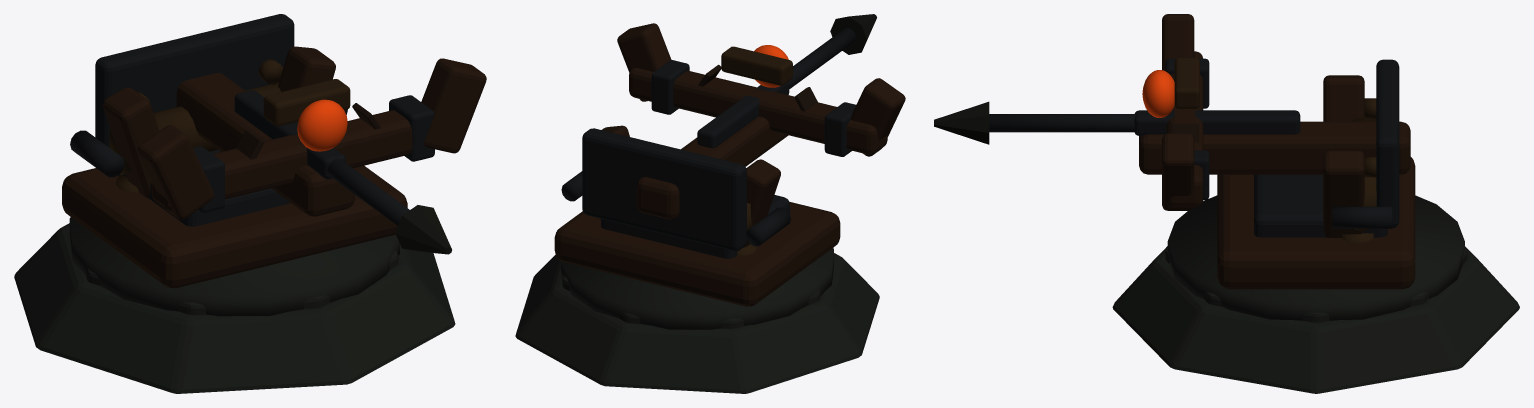
The model's file is TowerSeed3.obj.
3 views of the same model, side by side, from view 1: azimuth 30°, elevation 25°; view 2: azimuth 150°, elevation 25°; view 3: azimuth 270°, elevation 25° (orthographic). The views are drawn at different scales.
Parts seen in each view (by area): view 1: limestone_socket_lower_course, oak_bed, cut_stone_course, armoured_mantlet, oak_bow_crossbar, ballista_stock, bow_tip, bow_tip.001, oak_A_frame, apex_bow_crown, amber_sight, iron_guide (+11 smaller); view 2: limestone_socket_lower_course, oak_bed, armoured_mantlet, cut_stone_course, oak_bow_crossbar, ballista_stock, bow_tip, apex_bow_crown, bow_tip.001, iron_guide, iron_turntable, oak_A_frame (+9 smaller); view 3: limestone_socket_lower_course, oak_bed, cut_stone_course, ballista_stock, iron_turntable, armoured_mantlet, iron_guide, oak_A_frame.001, iron_bolt, bow_tip.001, oak_A_frame, oak_bow_crossbar (+8 smaller).
Boxes of the visible parts, <box> form: limestone_socket_lower_course: <box>14,223,455,393</box>; oak_bed: <box>62,165,407,288</box>; cut_stone_course: <box>69,217,399,316</box>; armoured_mantlet: <box>95,14,294,147</box>; oak_bow_crossbar: <box>151,110,412,211</box>; ballista_stock: <box>176,73,354,216</box>; bow_tip: <box>137,124,214,219</box>; bow_tip.001: <box>421,58,486,153</box>; oak_A_frame: <box>103,87,159,198</box>; apex_bow_crown: <box>263,79,350,126</box>; amber_sight: <box>297,99,347,151</box>; iron_guide: <box>234,90,345,179</box>; limestone_socket_lower_course: <box>515,253,879,393</box>; oak_bed: <box>554,201,840,306</box>; armoured_mantlet: <box>582,128,746,251</box>; cut_stone_course: <box>561,248,833,329</box>; oak_bow_crossbar: <box>629,68,887,154</box>; ballista_stock: <box>636,116,788,219</box>; bow_tip: <box>851,78,905,156</box>; apex_bow_crown: <box>721,46,792,85</box>; bow_tip.001: <box>617,23,671,101</box>; iron_guide: <box>697,81,789,148</box>; iron_turntable: <box>601,195,789,258</box>; oak_A_frame: <box>743,159,780,247</box>; limestone_socket_lower_course: <box>1112,246,1519,393</box>; oak_bed: <box>1217,157,1415,289</box>; cut_stone_course: <box>1167,195,1464,320</box>; ballista_stock: <box>1139,121,1410,174</box>; iron_turntable: <box>1254,174,1387,237</box>; armoured_mantlet: <box>1376,59,1399,228</box>; iron_guide: <box>1134,110,1300,135</box>; oak_A_frame.001: <box>1323,150,1364,237</box>; iron_bolt: <box>989,114,1135,132</box>; bow_tip.001: <box>1162,133,1194,210</box>; oak_A_frame: <box>1323,75,1364,121</box>; oak_bow_crossbar: <box>1166,51,1203,207</box>.
Size of the model in its own units: 1.77 by 1.13 by 2.54.
